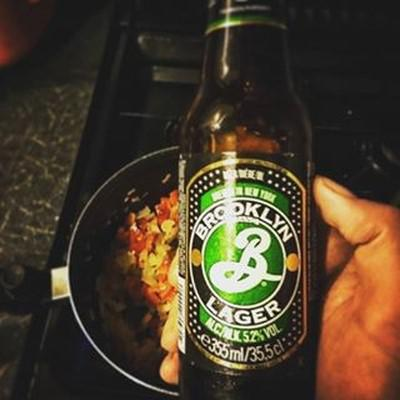beer: (177, 1, 318, 400)
